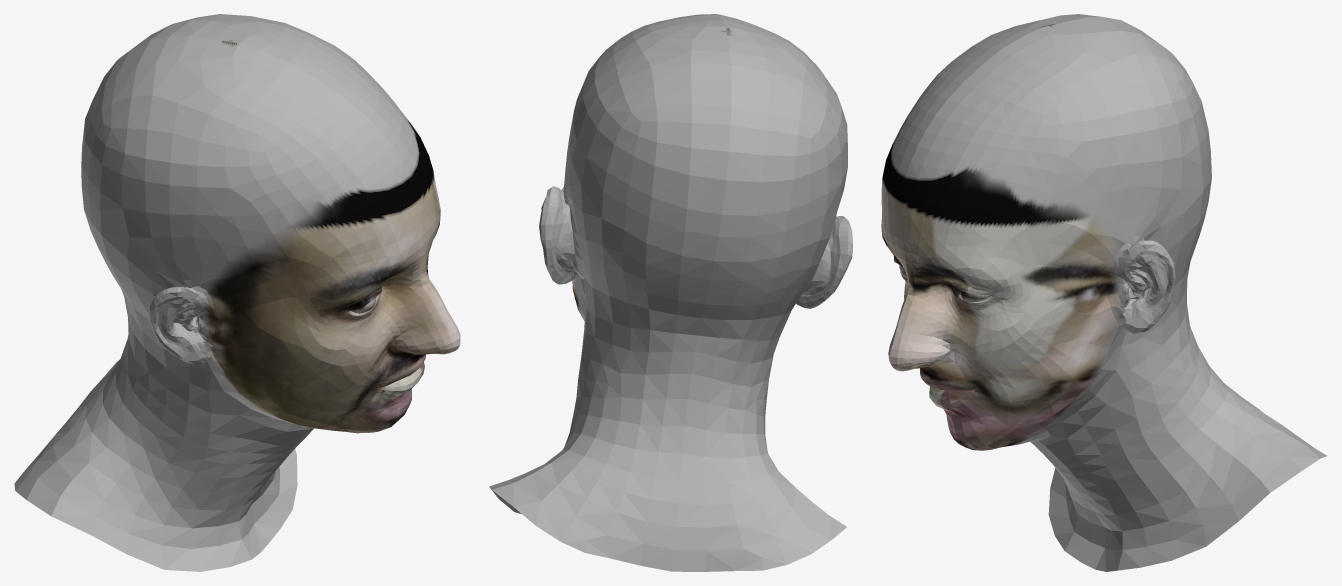
The model's file is ezgif-frame-047.obj.
3 renders of one model, left to right at view 1: azimuth 30°, elevation 25°; view 2: azimuth 150°, elevation 25°; view 3: azimuth 270°, elevation 25°, orthographic. The views are drawn at different scales.
Size of the model in its own units: 0.206 by 0.3235 by 0.254.
1 material, 1 textured.
